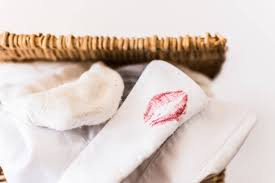kimchi: (145, 89, 189, 126)
